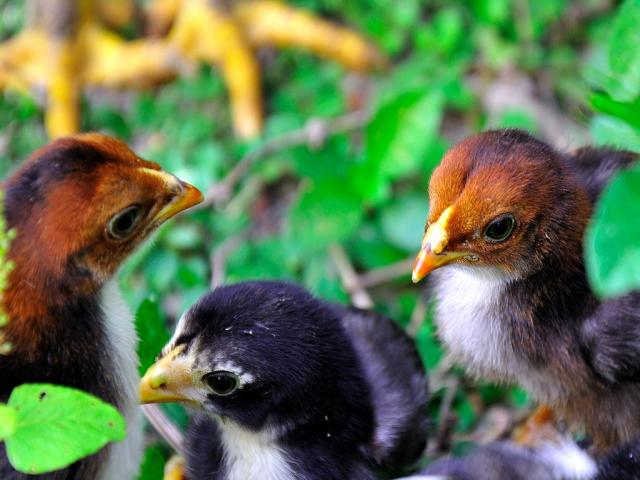Bird: (410, 128, 640, 480), (0, 128, 204, 479), (133, 276, 430, 479)
